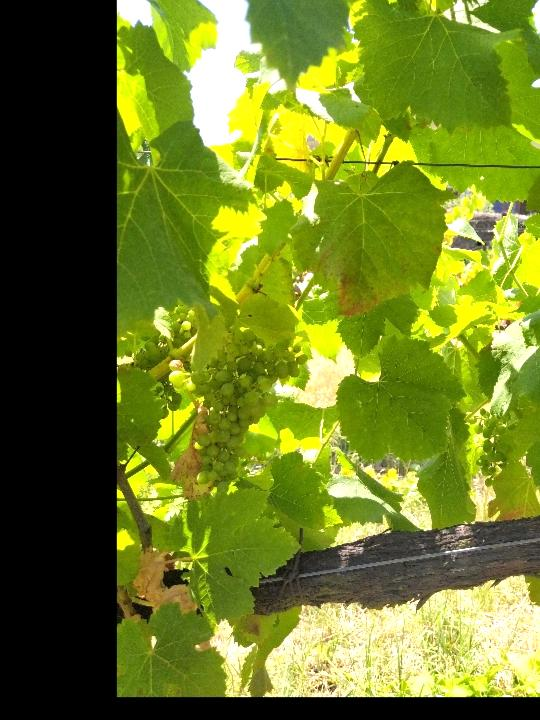grape: (167, 327, 307, 495), (466, 409, 517, 489)
